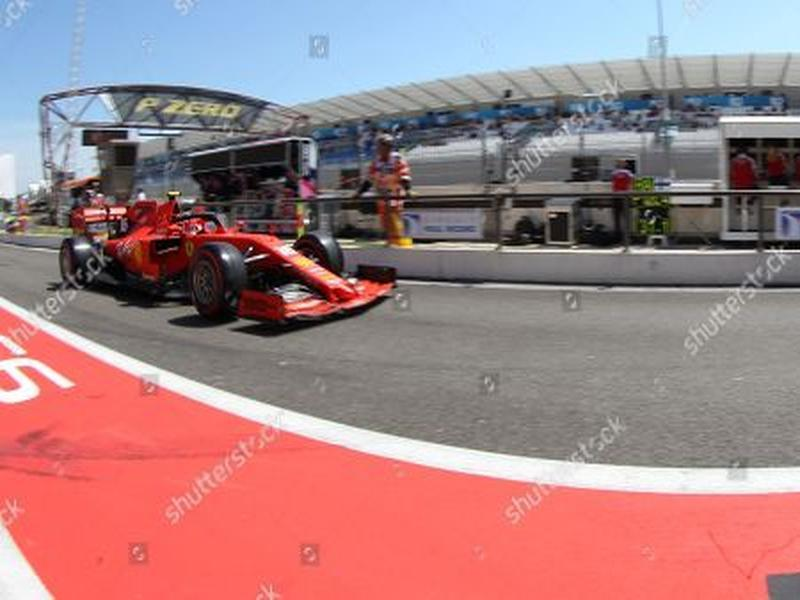f1: (58, 189, 408, 342)
